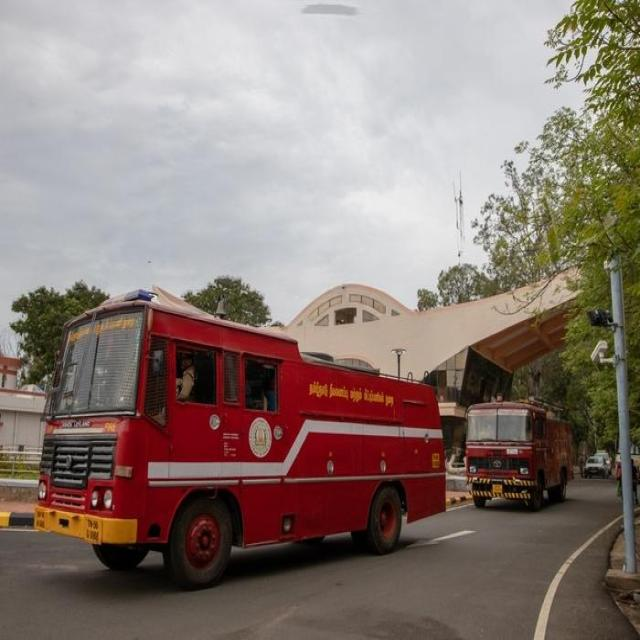emergency: (35, 292, 445, 587), (465, 402, 574, 510)
